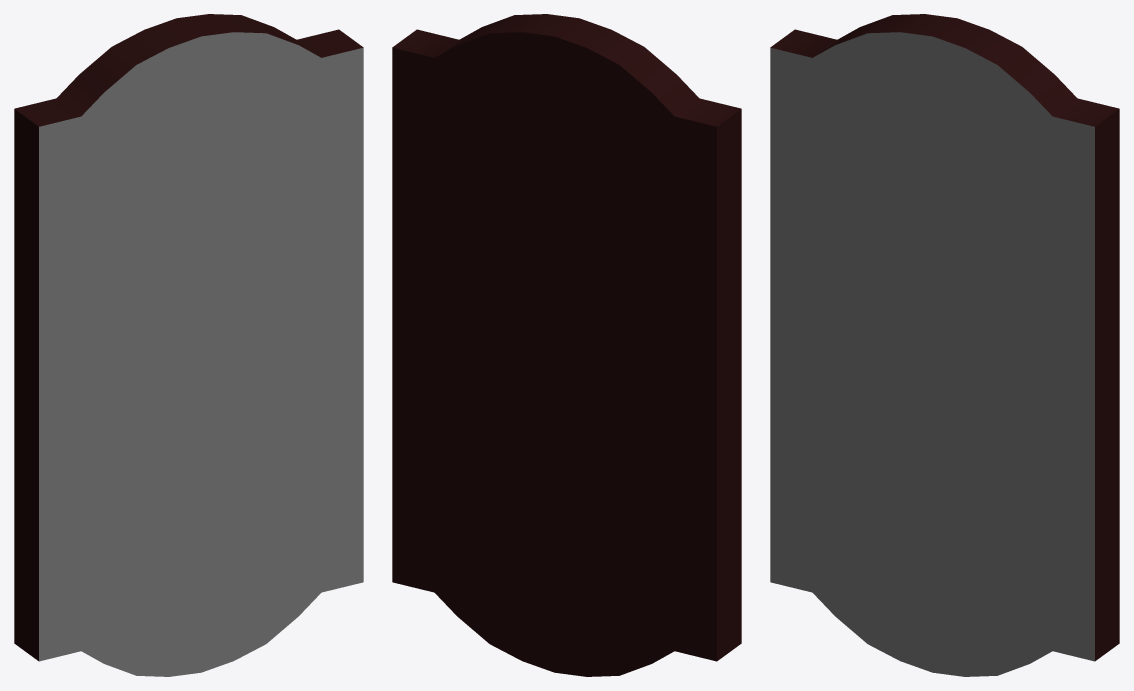
The model's file is numpad.fbx.
The picture shows the model from 3 angles, left to right: view 1: azimuth 30°, elevation 25°; view 2: azimuth 150°, elevation 25°; view 3: azimuth 330°, elevation 25°; orthographic projection.
Visible parts, largest first — view 1: Plane002; view 2: Plane002; view 3: Plane002.
Boxes of the visible parts, x1,y1,x2,y2 form: Plane002: [14, 14, 363, 676]; Plane002: [392, 14, 741, 676]; Plane002: [770, 14, 1119, 676].
Bounding box in the file's own units: 59.53 × 111 × 7.87.
